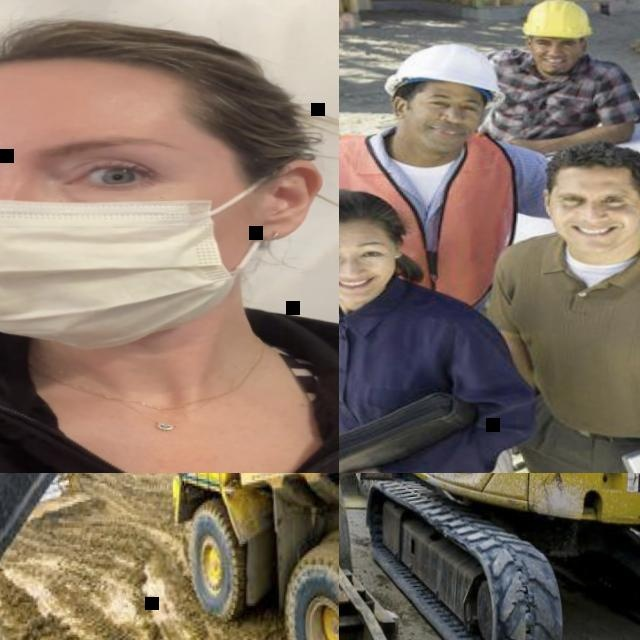Hardhat: (384, 38, 508, 109), (518, 0, 599, 37)
Mask: (0, 165, 273, 352)
NO-Hardhat: (0, 16, 297, 123), (532, 143, 640, 178), (339, 189, 400, 232)
NO-Mask: (393, 114, 471, 157), (554, 214, 633, 252), (339, 262, 389, 305), (526, 50, 581, 74)
NO-Safety Vest: (0, 348, 339, 473), (492, 245, 640, 439), (339, 291, 484, 473), (486, 51, 609, 152)
Person: (0, 13, 339, 473), (339, 34, 555, 318), (339, 186, 536, 473), (471, 140, 640, 473), (478, 0, 640, 154)
Safety Vest: (339, 131, 515, 302)
machinery: (0, 473, 339, 640), (350, 473, 640, 640), (163, 473, 339, 640)
vehicle: (481, 0, 640, 454)
